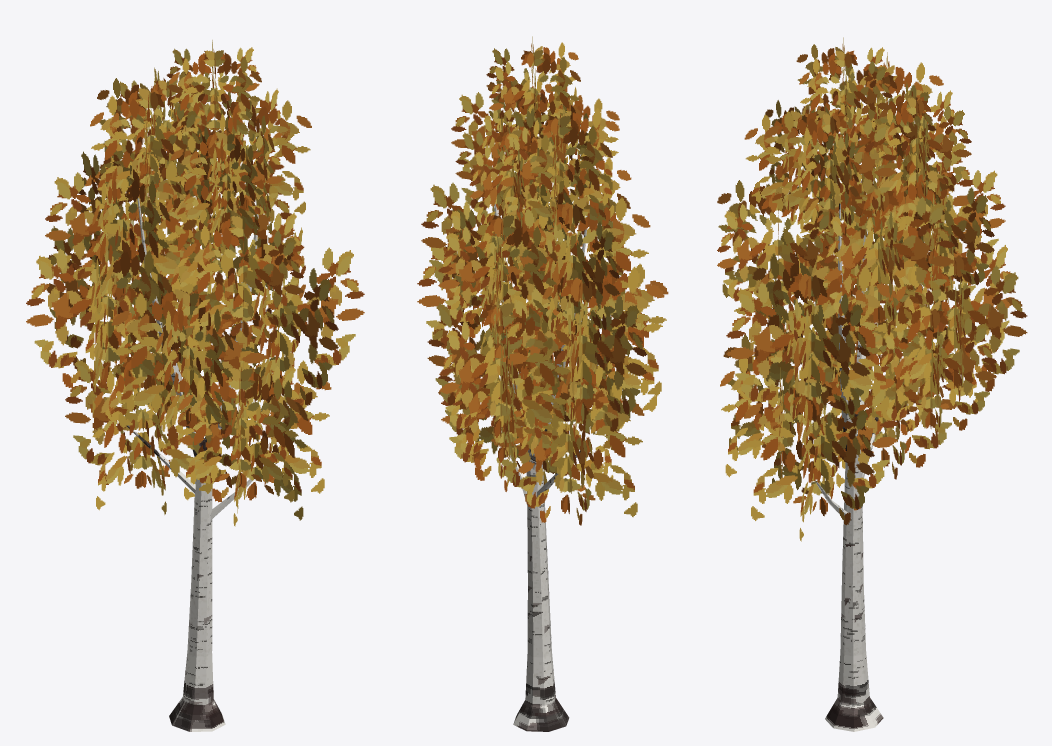
The model's file is birch_tree.glb.
3 views of the same model, side by side, from view 1: azimuth 30°, elevation 25°; view 2: azimuth 150°, elevation 25°; view 3: azimuth 270°, elevation 25° (orthographic).
Parts seen in each view (by area): view 1: BirchTree; view 2: BirchTree; view 3: BirchTree.
Boxes of the visible parts, x1,y1,x2,y2 form: BirchTree: (26, 40, 364, 731); BirchTree: (417, 36, 668, 731); BirchTree: (717, 37, 1027, 731).
Bounding box in the file's own units: 1.97 × 4.37 × 1.91.
Materials: 2 (2 with a texture image).
